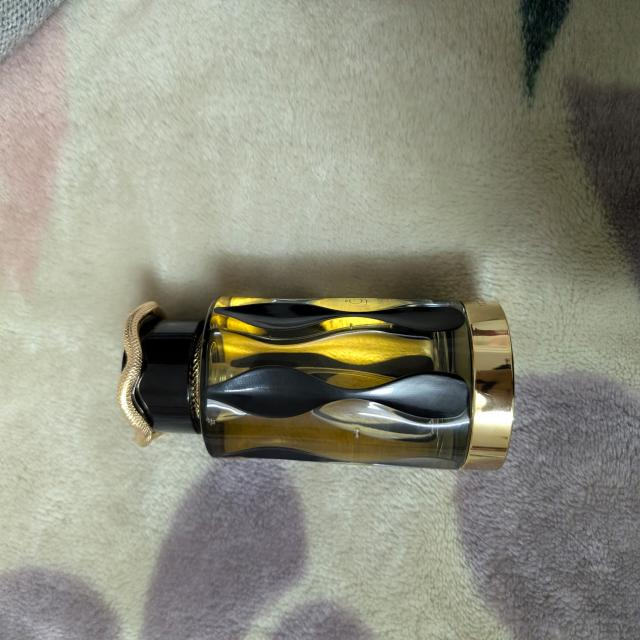Teriaq-Intense: (115, 291, 520, 472)
